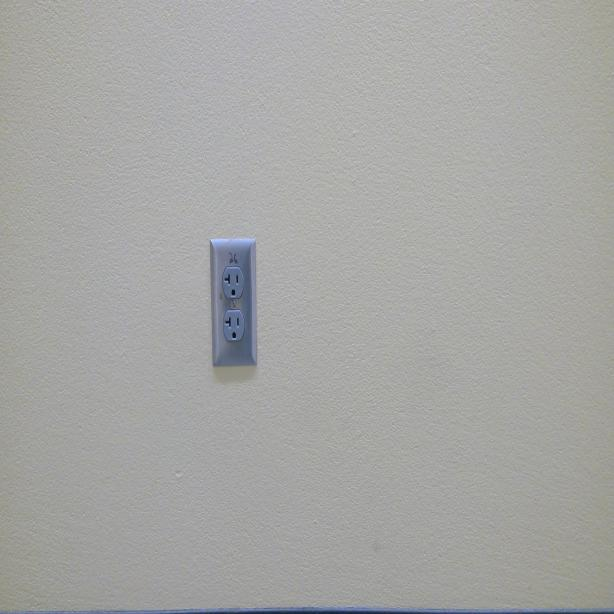typeb: (223, 309, 245, 342), (222, 268, 244, 300)
